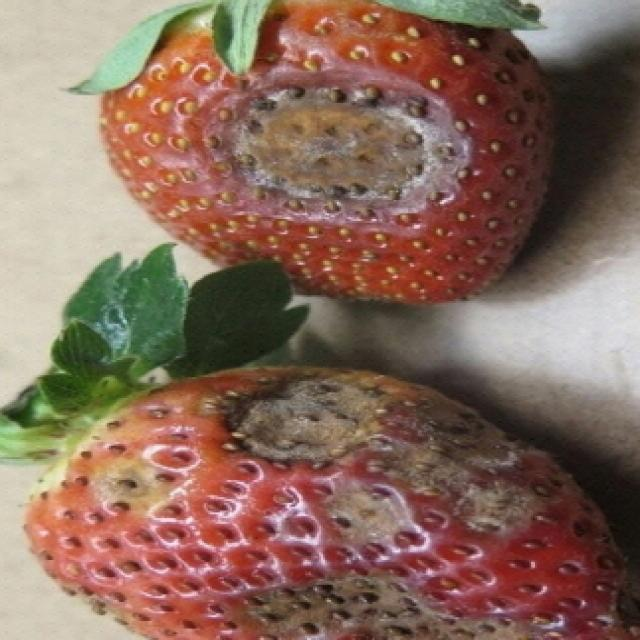Anthracnose Fruit Rot: (195, 367, 640, 640), (188, 66, 479, 223)
